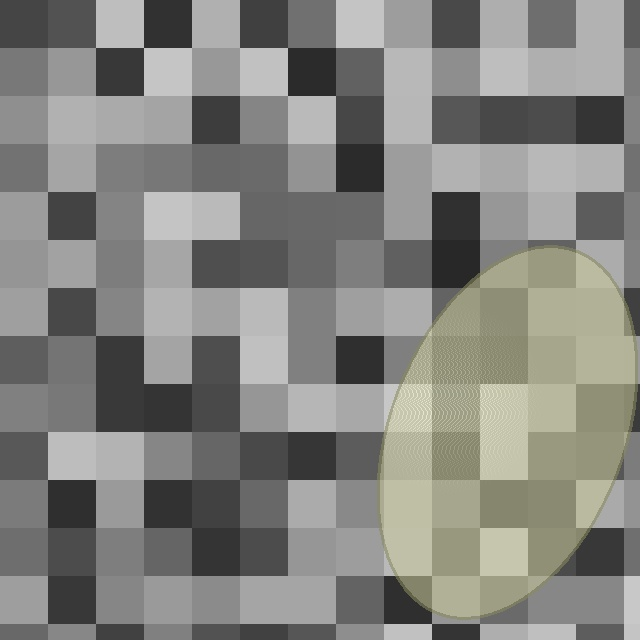lens: (378, 246, 636, 618)
